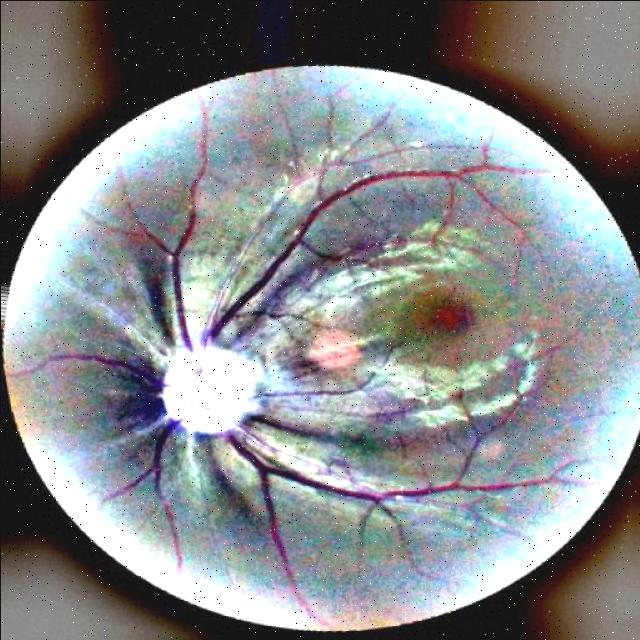Nerves: (200, 145, 525, 349), (220, 426, 552, 620), (51, 354, 182, 570), (145, 104, 208, 351), (232, 270, 304, 341)
Optic Disk: (160, 345, 262, 432)
